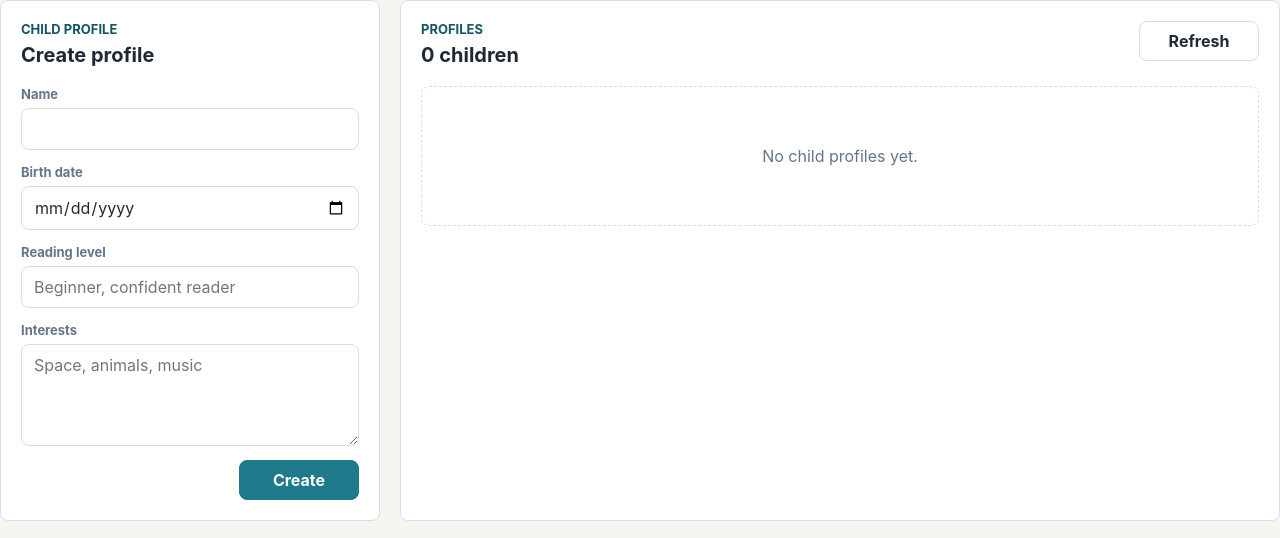
Test: ChildrenManager › creates a child profile via form submission
Expected: the text "No child profiles yet." is shown, [421,86,1259,226]
Type "Ivan" into the field labelled "Name".
click(190, 129); type("Ivan")  # box [21,108,359,150]
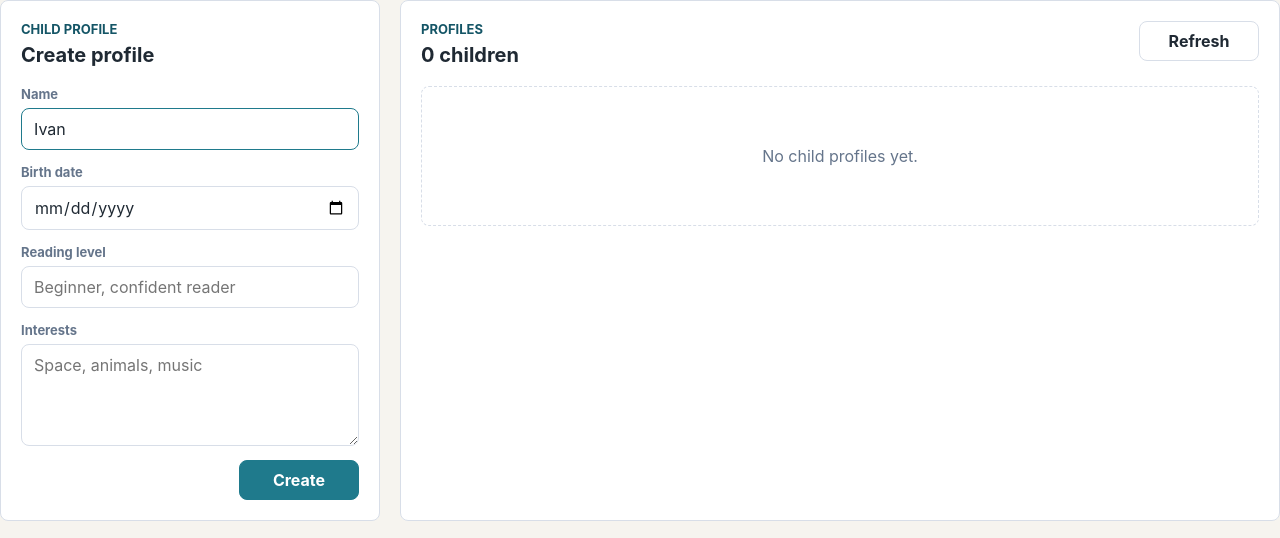
Type "2021-06-01" into the date field labelled "Birth date".
click(190, 208); type("2021-06-01")  # box [21,186,359,230]
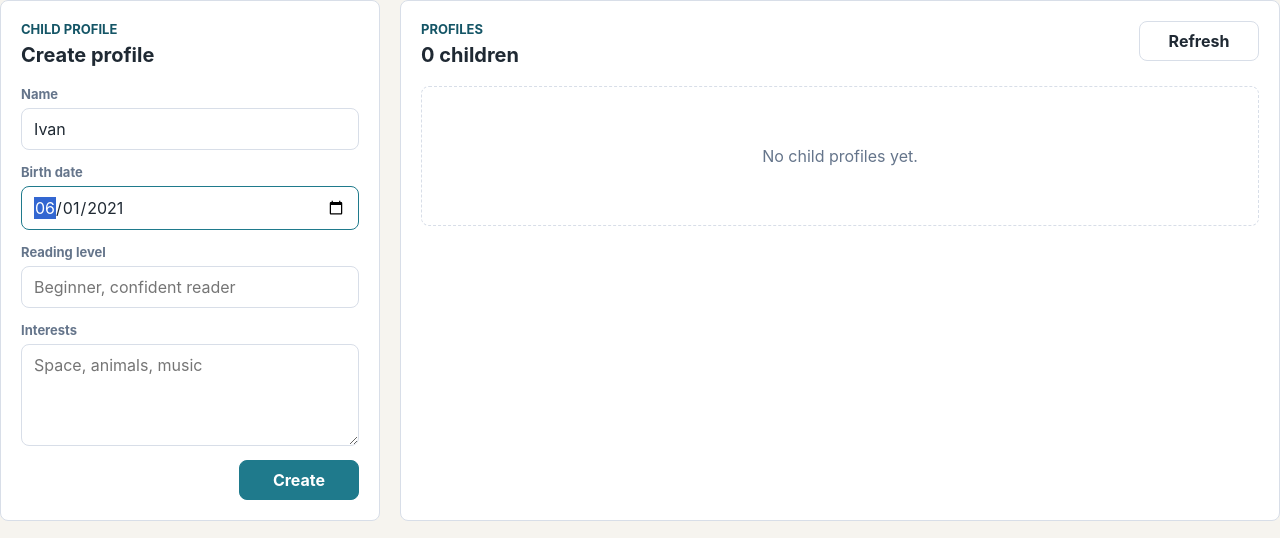
Click the button "Create".
click(299, 480)  # box [239,460,359,500]
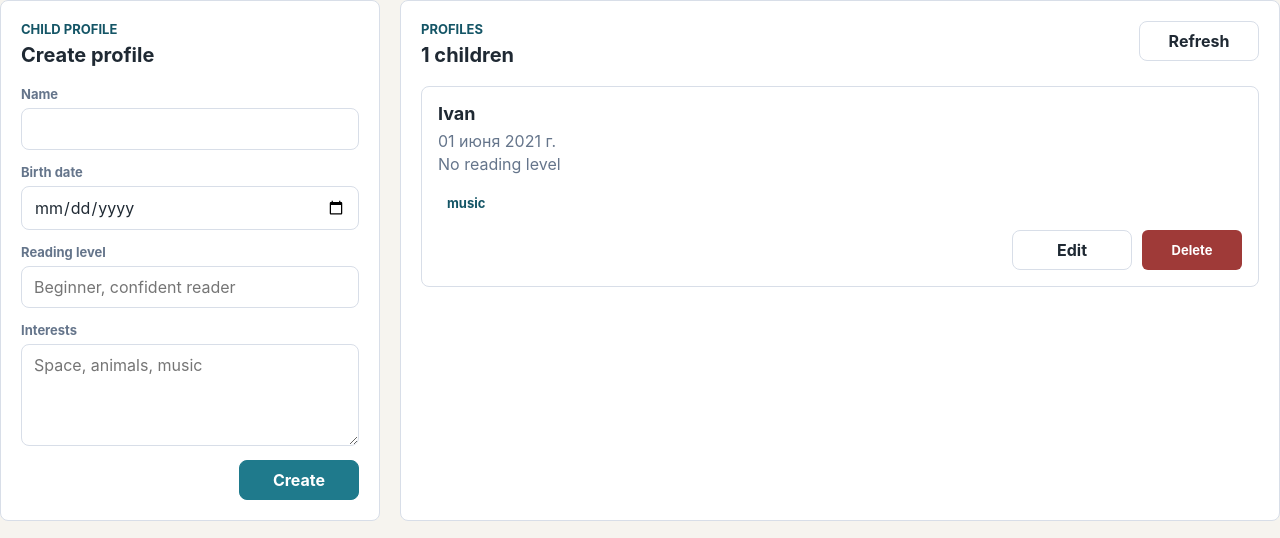
Expected: the heading "Ivan" is shown, [438,103,476,124]
